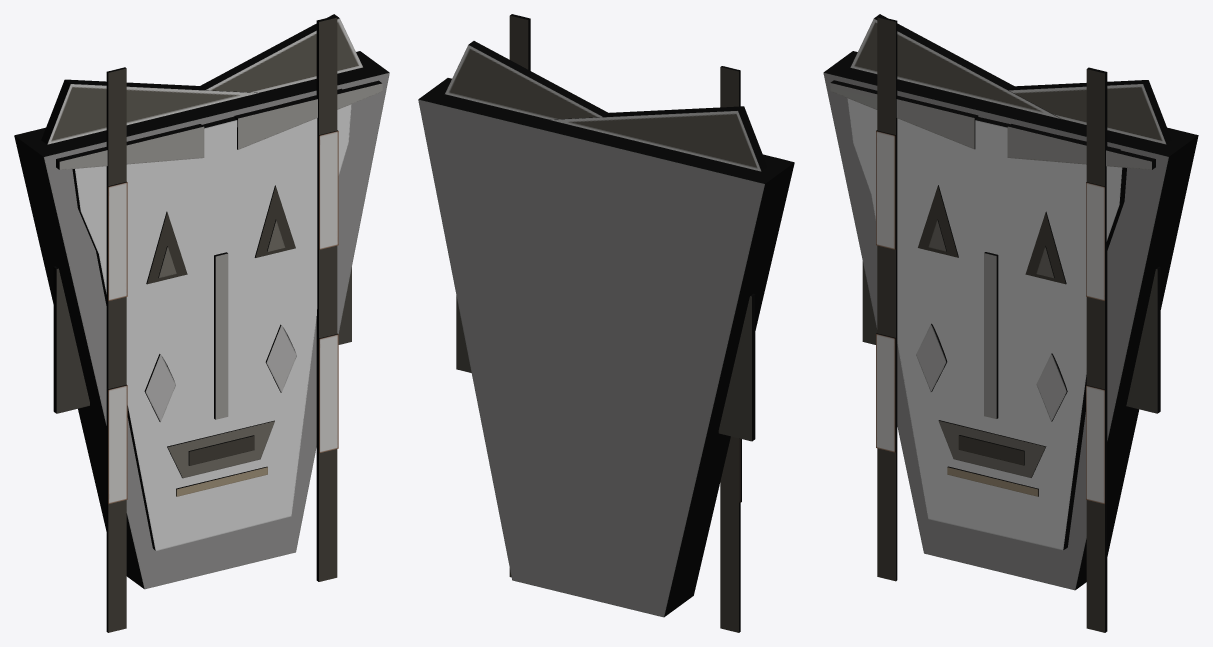
File: Mask3.fbx
3 views of the same model, side by side, from view 1: azimuth 30°, elevation 25°; view 2: azimuth 150°, elevation 25°; view 3: azimuth 330°, elevation 25° (orthographic).
Parts seen in each view (by area): view 1: Masks-3a-2-export; view 2: Masks-3a-2-export; view 3: Masks-3a-2-export.
Boxes of the visible parts, x1,y1,x2,y2 form: Masks-3a-2-export: (14,14,389,632); Masks-3a-2-export: (418,14,794,632); Masks-3a-2-export: (823,14,1198,632).
Size of the model in its own units: 97.58 by 151 by 17.58.
1 material, 1 textured.
